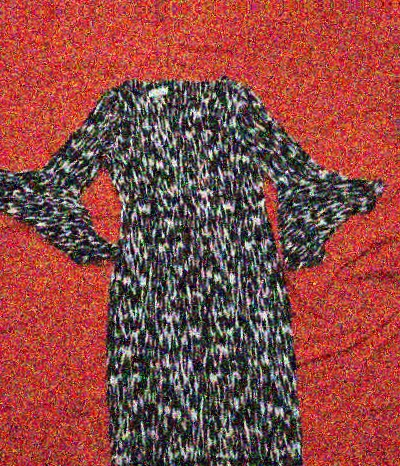Dress: (0, 44, 365, 466)
